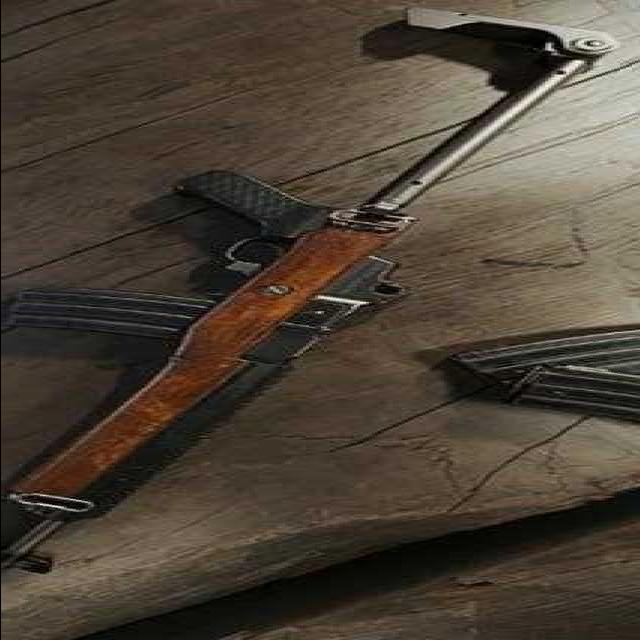heavyweapon: (1, 13, 640, 581)
